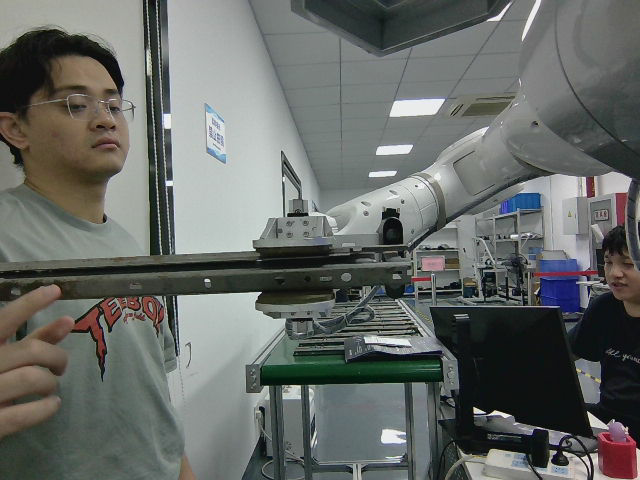right: (1, 245, 409, 302)
